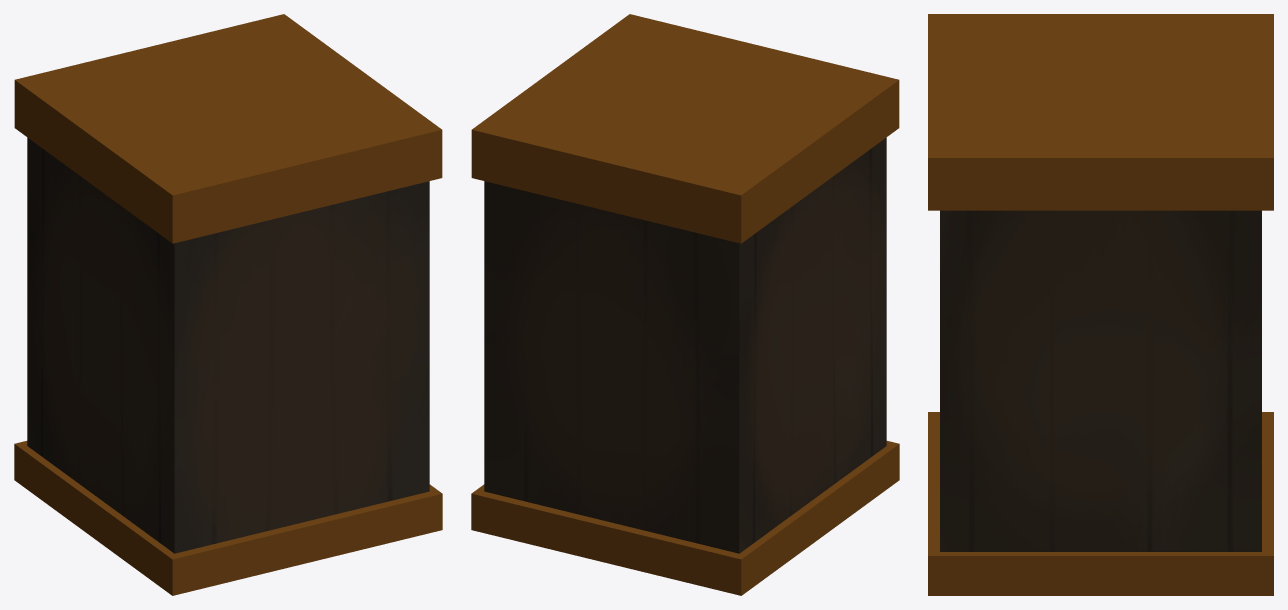
File: SC_Trash_Ana 1.fbx
The picture shows the model from 3 angles, left to right: view 1: azimuth 30°, elevation 25°; view 2: azimuth 150°, elevation 25°; view 3: azimuth 270°, elevation 25°; orthographic projection. The views are drawn at different scales.
Visible parts, largest first — view 1: SC_Box; view 2: SC_Box; view 3: SC_Box.
Part boxes in pixels (box(x1,y1,x2,y2)): SC_Box: box(14, 14, 442, 595); SC_Box: box(471, 14, 899, 595); SC_Box: box(928, 14, 1273, 595).
Bounding box in the file's own units: 212 × 300 × 215.
